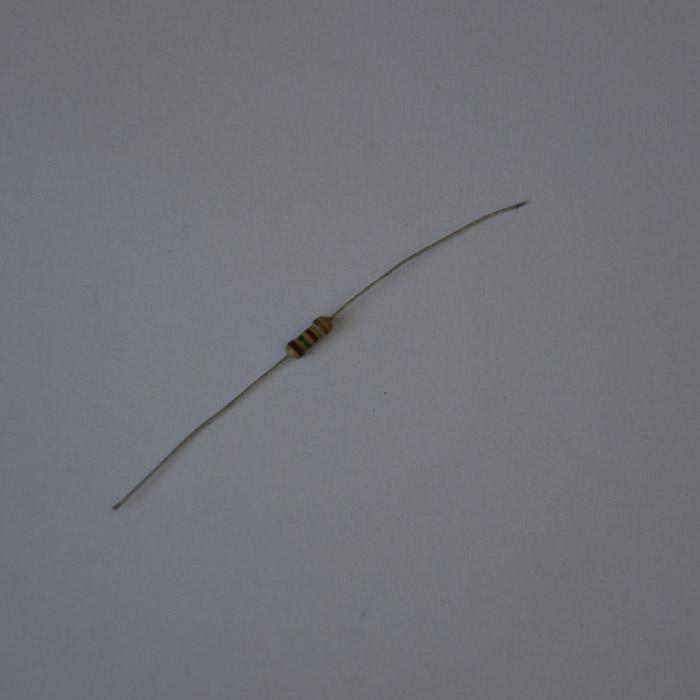resistor: (283, 314, 335, 361)
